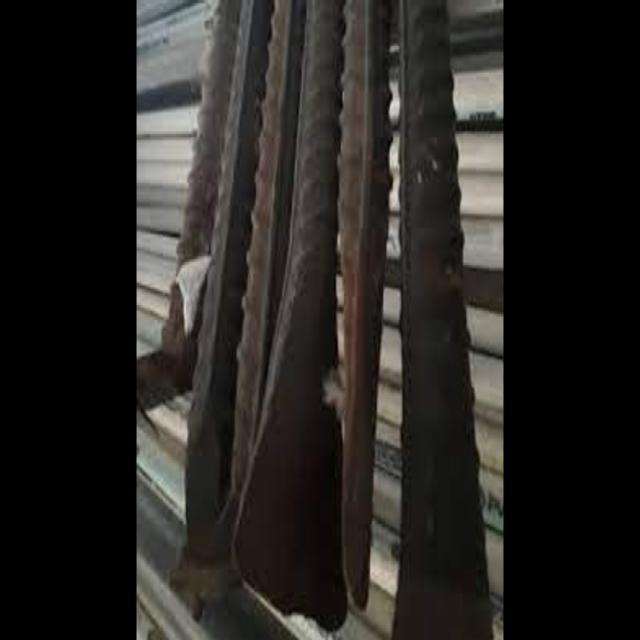Linggis: (202, 0, 346, 640), (394, 0, 492, 640), (336, 0, 404, 640)
